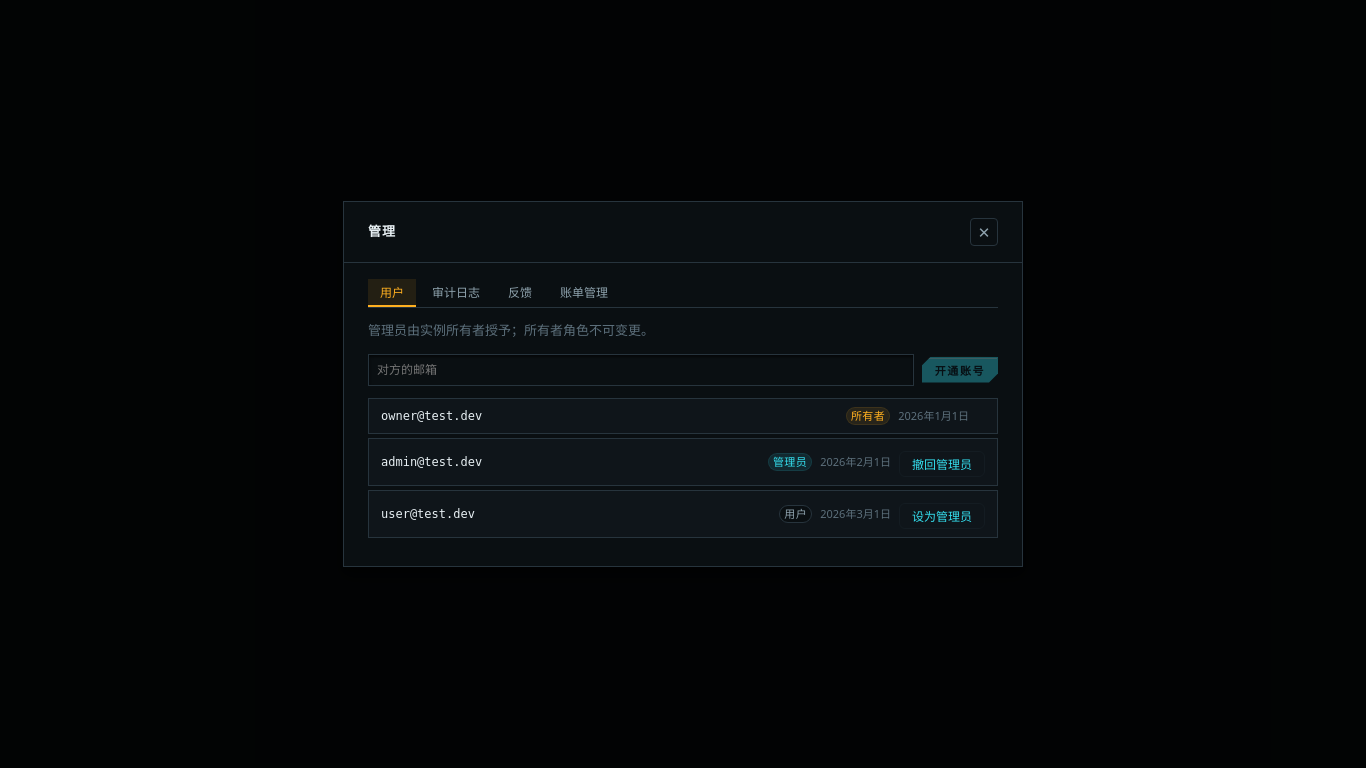
AdminPanel › 反馈 tab › 状态更新失败回滚并显示错误
This screenshot has width=1366, height=768.
Step 1. Click the button "反馈" → (520, 293), box [496, 279, 544, 307]
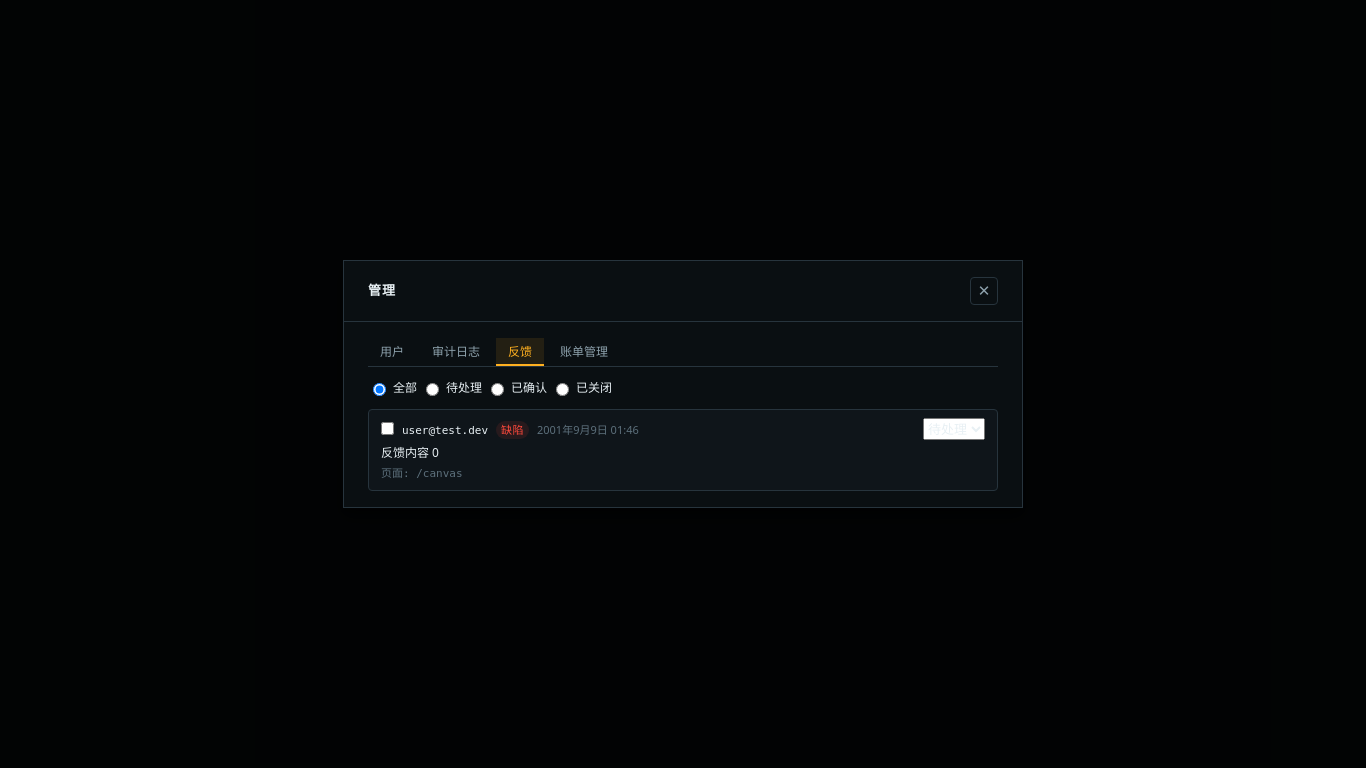
Expected: the text "反馈内容 0" is shown, [381, 444, 439, 461]
Step 2. Select "已关闭" in the dropdown named "反馈" → (954, 429), box [923, 418, 985, 440]
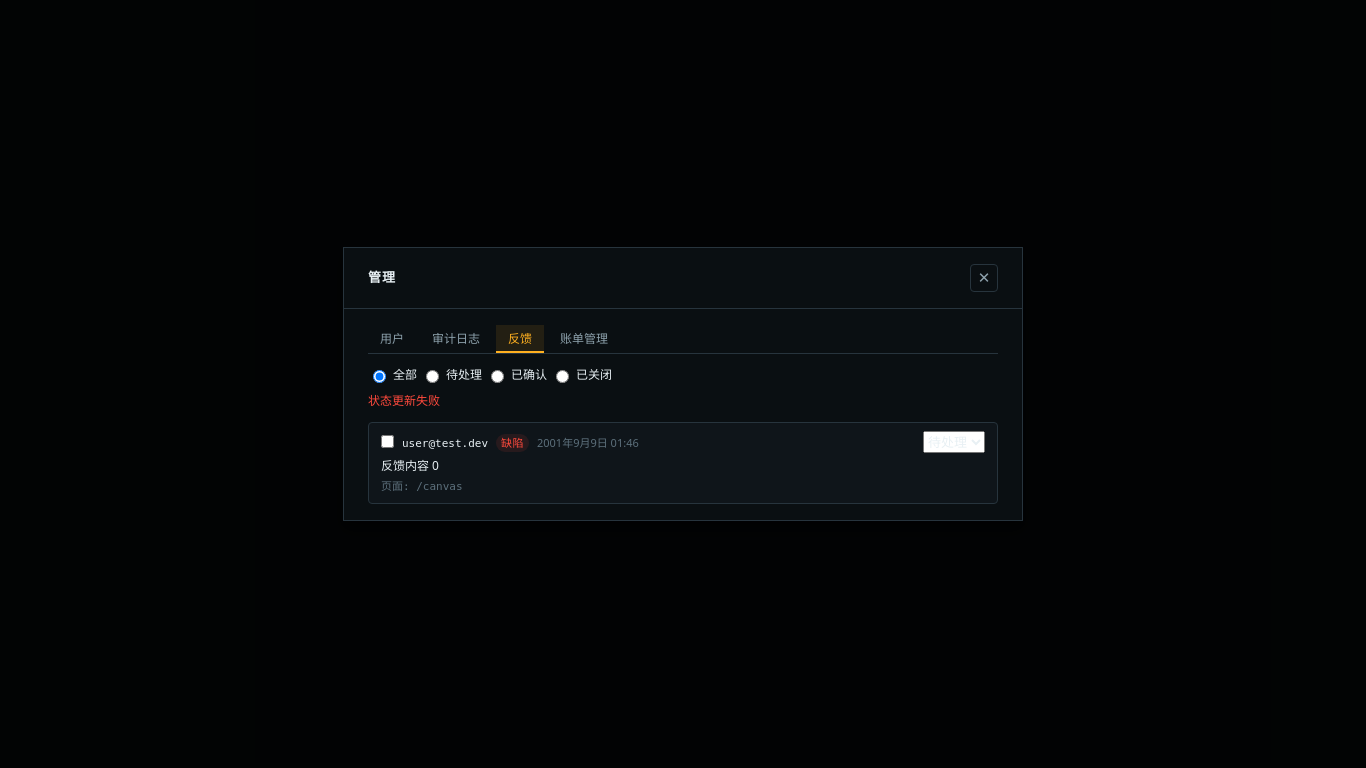
Expected: the text "状态更新失败" is shown, [368, 392, 440, 409]
